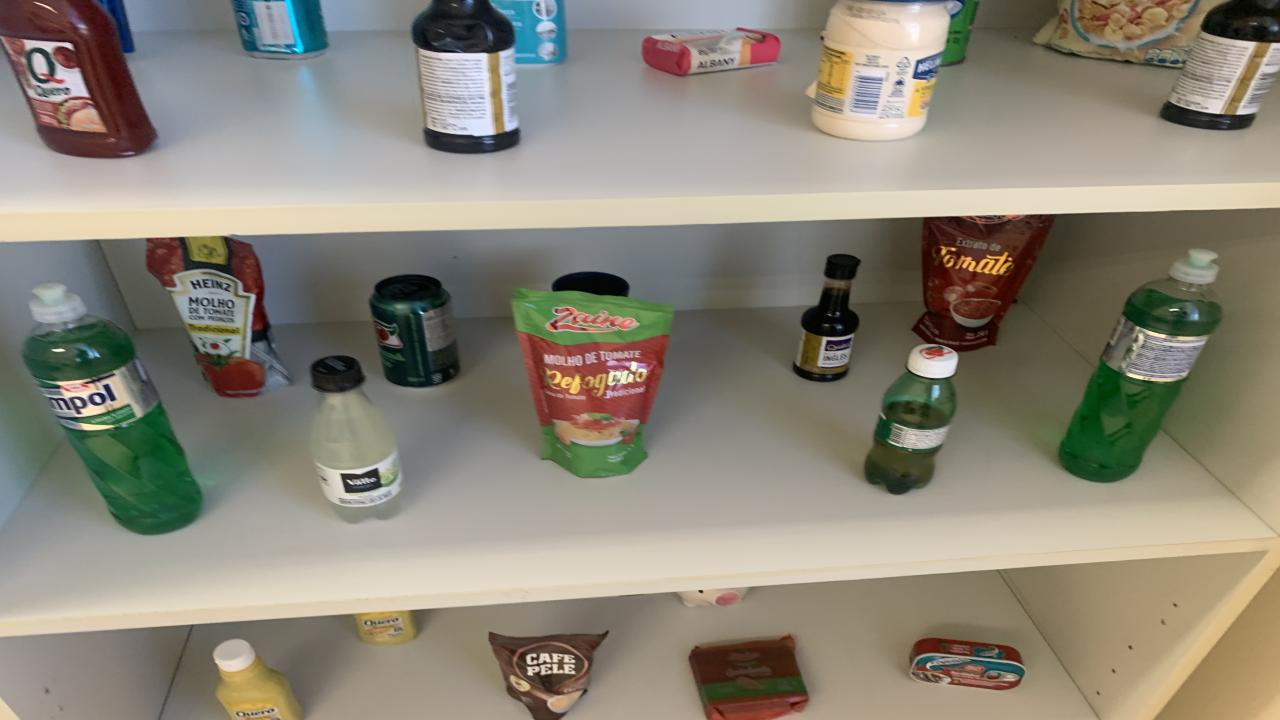Cleaner-Cleanup_Items: (490, 0, 568, 66)
Coffee-Pantry_Items: (490, 632, 608, 720)
Detergent-Cleanup_Items: (22, 285, 202, 534), (1058, 249, 1222, 482)
English_Sauce-Pantry_Items: (412, 0, 520, 154), (1160, 0, 1280, 129), (792, 255, 860, 382)
Flakes-Snacks: (1032, 0, 1222, 68)
Guarana-Drinks: (865, 345, 958, 495)
Guarana_Can-Drinks: (370, 274, 460, 386)
Guava-Snacks: (690, 636, 810, 718)
Mayonnaise-Pantry_Items: (812, 0, 950, 141)
Mustard-Pantry_Items: (212, 639, 302, 720), (355, 611, 418, 645)
Pig_Safe-Miscellaneous: (678, 587, 748, 606)
Pringles-Snacks: (942, 0, 980, 66)
Soap-Cleanup_Items: (642, 28, 780, 75)
Soda-Drinks: (310, 354, 402, 523)
Tea-Drinks: (230, 0, 328, 60)
Tomato_Sauce-Pantry_Items: (512, 289, 675, 476), (148, 236, 290, 398), (912, 216, 1055, 351)
Tuna_Can-Pantry_Items: (910, 638, 1025, 690)
